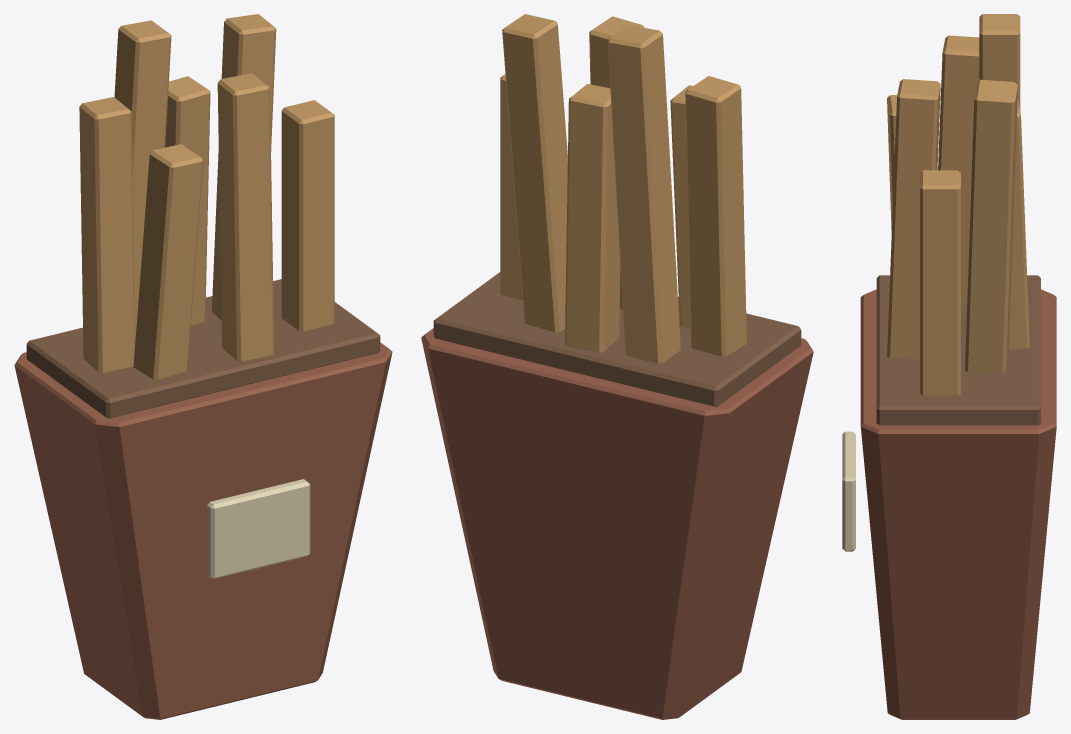
Rendered from b16_french_fry_carton.glb.
3 views of the same model, side by side, from view 1: azimuth 30°, elevation 25°; view 2: azimuth 150°, elevation 25°; view 3: azimuth 270°, elevation 25° (orthographic). The views are drawn at different scales.
Parts seen in each view (by area): view 1: b16_french_fry_carton; view 2: b16_french_fry_carton; view 3: b16_french_fry_carton.
Part boxes in pixels (x1,y1,x2,y2): b16_french_fry_carton: (14, 14, 392, 719); b16_french_fry_carton: (421, 14, 813, 719); b16_french_fry_carton: (842, 14, 1056, 719).
Size of the model in its own units: 0.0747 by 0.1542 by 0.0469.
